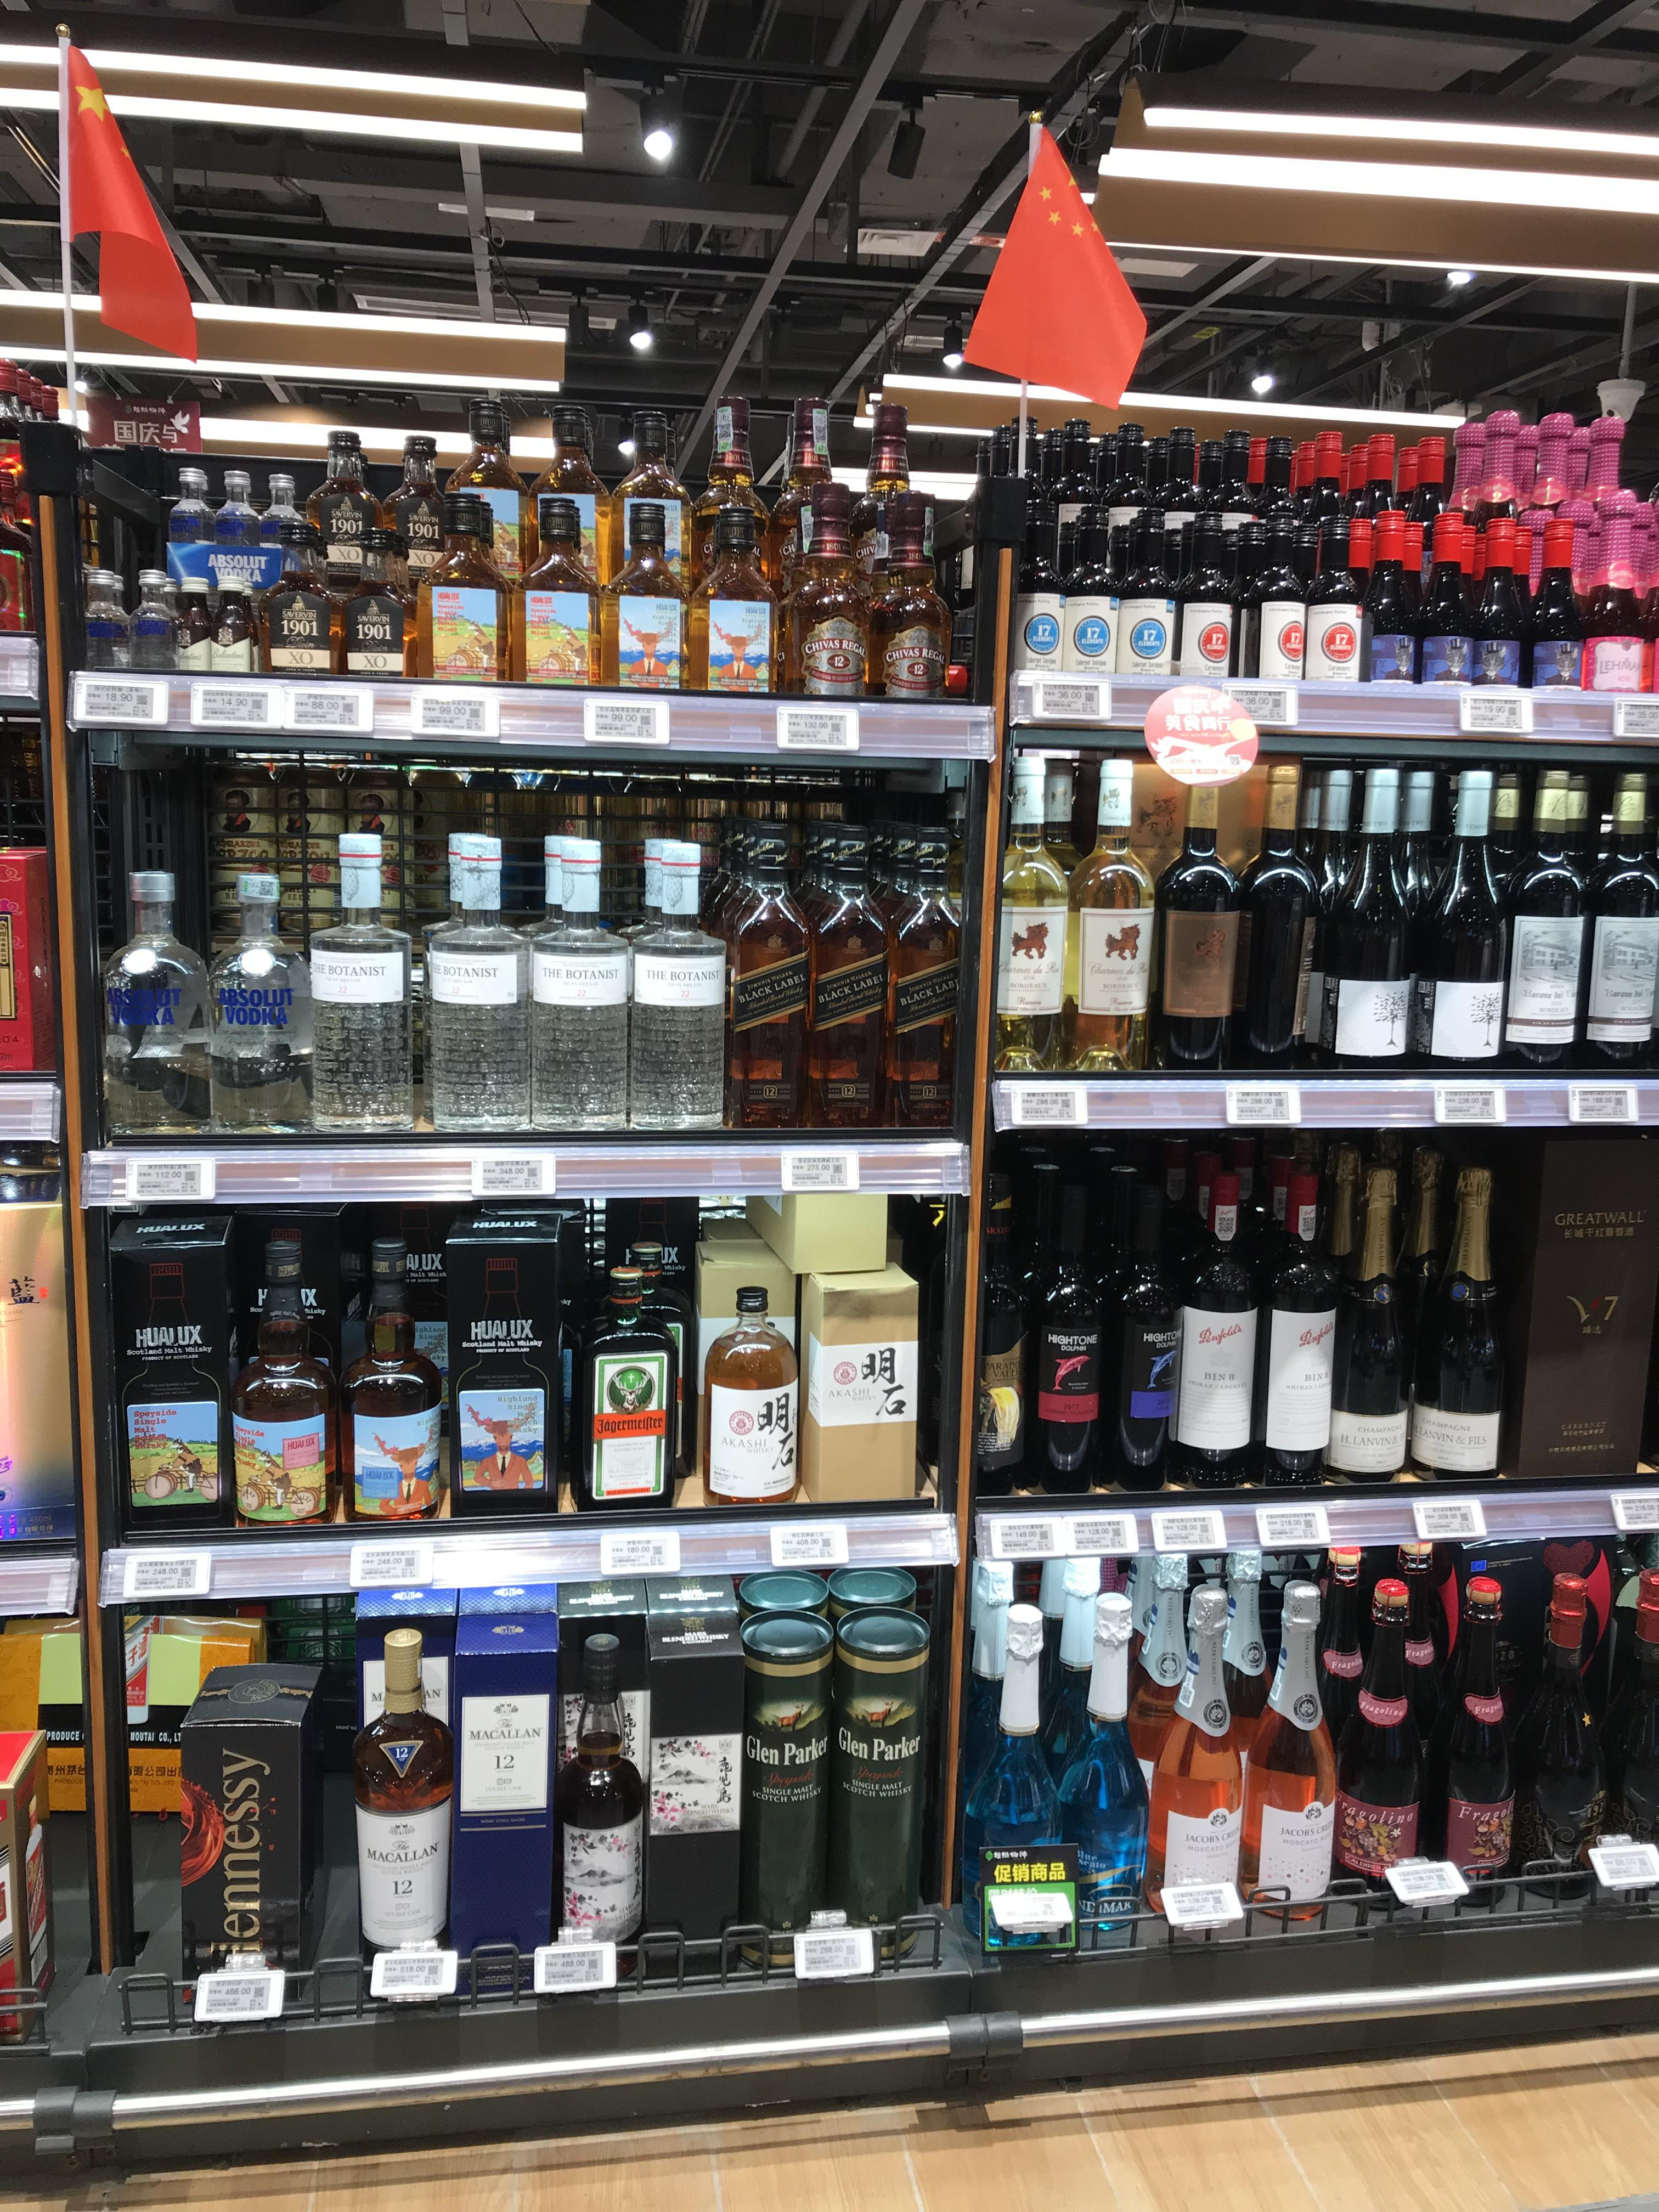bag: (819, 827, 918, 1130), (866, 826, 964, 1125)
bottle: (106, 1181, 237, 1536), (957, 1602, 1075, 1949), (444, 1181, 558, 1536), (636, 1581, 742, 1958), (352, 1627, 457, 1987), (1044, 1613, 1152, 1942), (730, 1627, 833, 1970), (1140, 1587, 1239, 1935), (1408, 1165, 1507, 1493), (1239, 1595, 1337, 1928), (232, 1237, 336, 1540), (714, 810, 810, 1139), (549, 1639, 643, 1970), (1162, 1179, 1258, 1493), (1093, 1176, 1187, 1494), (1244, 1176, 1338, 1493), (1317, 1170, 1410, 1493), (1408, 773, 1507, 1071), (1223, 768, 1317, 1076), (1316, 777, 1412, 1076), (343, 1238, 439, 1538), (627, 834, 721, 1139), (526, 834, 619, 1143), (1150, 772, 1243, 1080), (1488, 777, 1586, 1068), (573, 1256, 676, 1527), (1066, 763, 1154, 1078), (981, 763, 1066, 1083), (1497, 1625, 1598, 1895), (941, 1181, 1025, 1500), (1019, 1174, 1101, 1496), (697, 1273, 800, 1517), (429, 860, 518, 1141), (99, 869, 190, 1139), (1574, 784, 1657, 1073), (308, 873, 397, 1144), (516, 430, 606, 691), (1328, 1644, 1413, 1902), (866, 425, 943, 707), (697, 434, 777, 702), (610, 432, 688, 700), (1040, 434, 1114, 709), (983, 418, 1053, 702), (427, 442, 504, 691), (788, 458, 863, 707), (214, 907, 298, 1129), (1110, 449, 1182, 705), (1434, 1689, 1518, 1900), (1589, 1611, 1657, 1867), (383, 430, 451, 683), (1297, 451, 1364, 704), (1201, 463, 1269, 707), (349, 437, 415, 685), (1169, 475, 1239, 709), (275, 469, 349, 676), (300, 435, 371, 644), (1577, 491, 1643, 707), (1249, 463, 1309, 704), (1358, 477, 1419, 693), (1467, 496, 1530, 697), (1527, 498, 1586, 702), (1415, 493, 1474, 693), (260, 496, 329, 651), (176, 484, 234, 665), (209, 528, 265, 678), (166, 516, 218, 658), (127, 563, 179, 667), (78, 571, 129, 662)
box: (157, 1662, 335, 2027), (1518, 1130, 1659, 1521), (451, 1615, 556, 1991), (802, 1259, 913, 1503)
jar: (826, 1623, 934, 1959), (7, 1599, 87, 1743), (209, 749, 277, 874), (336, 827, 392, 932), (303, 812, 349, 918), (342, 766, 399, 843)
